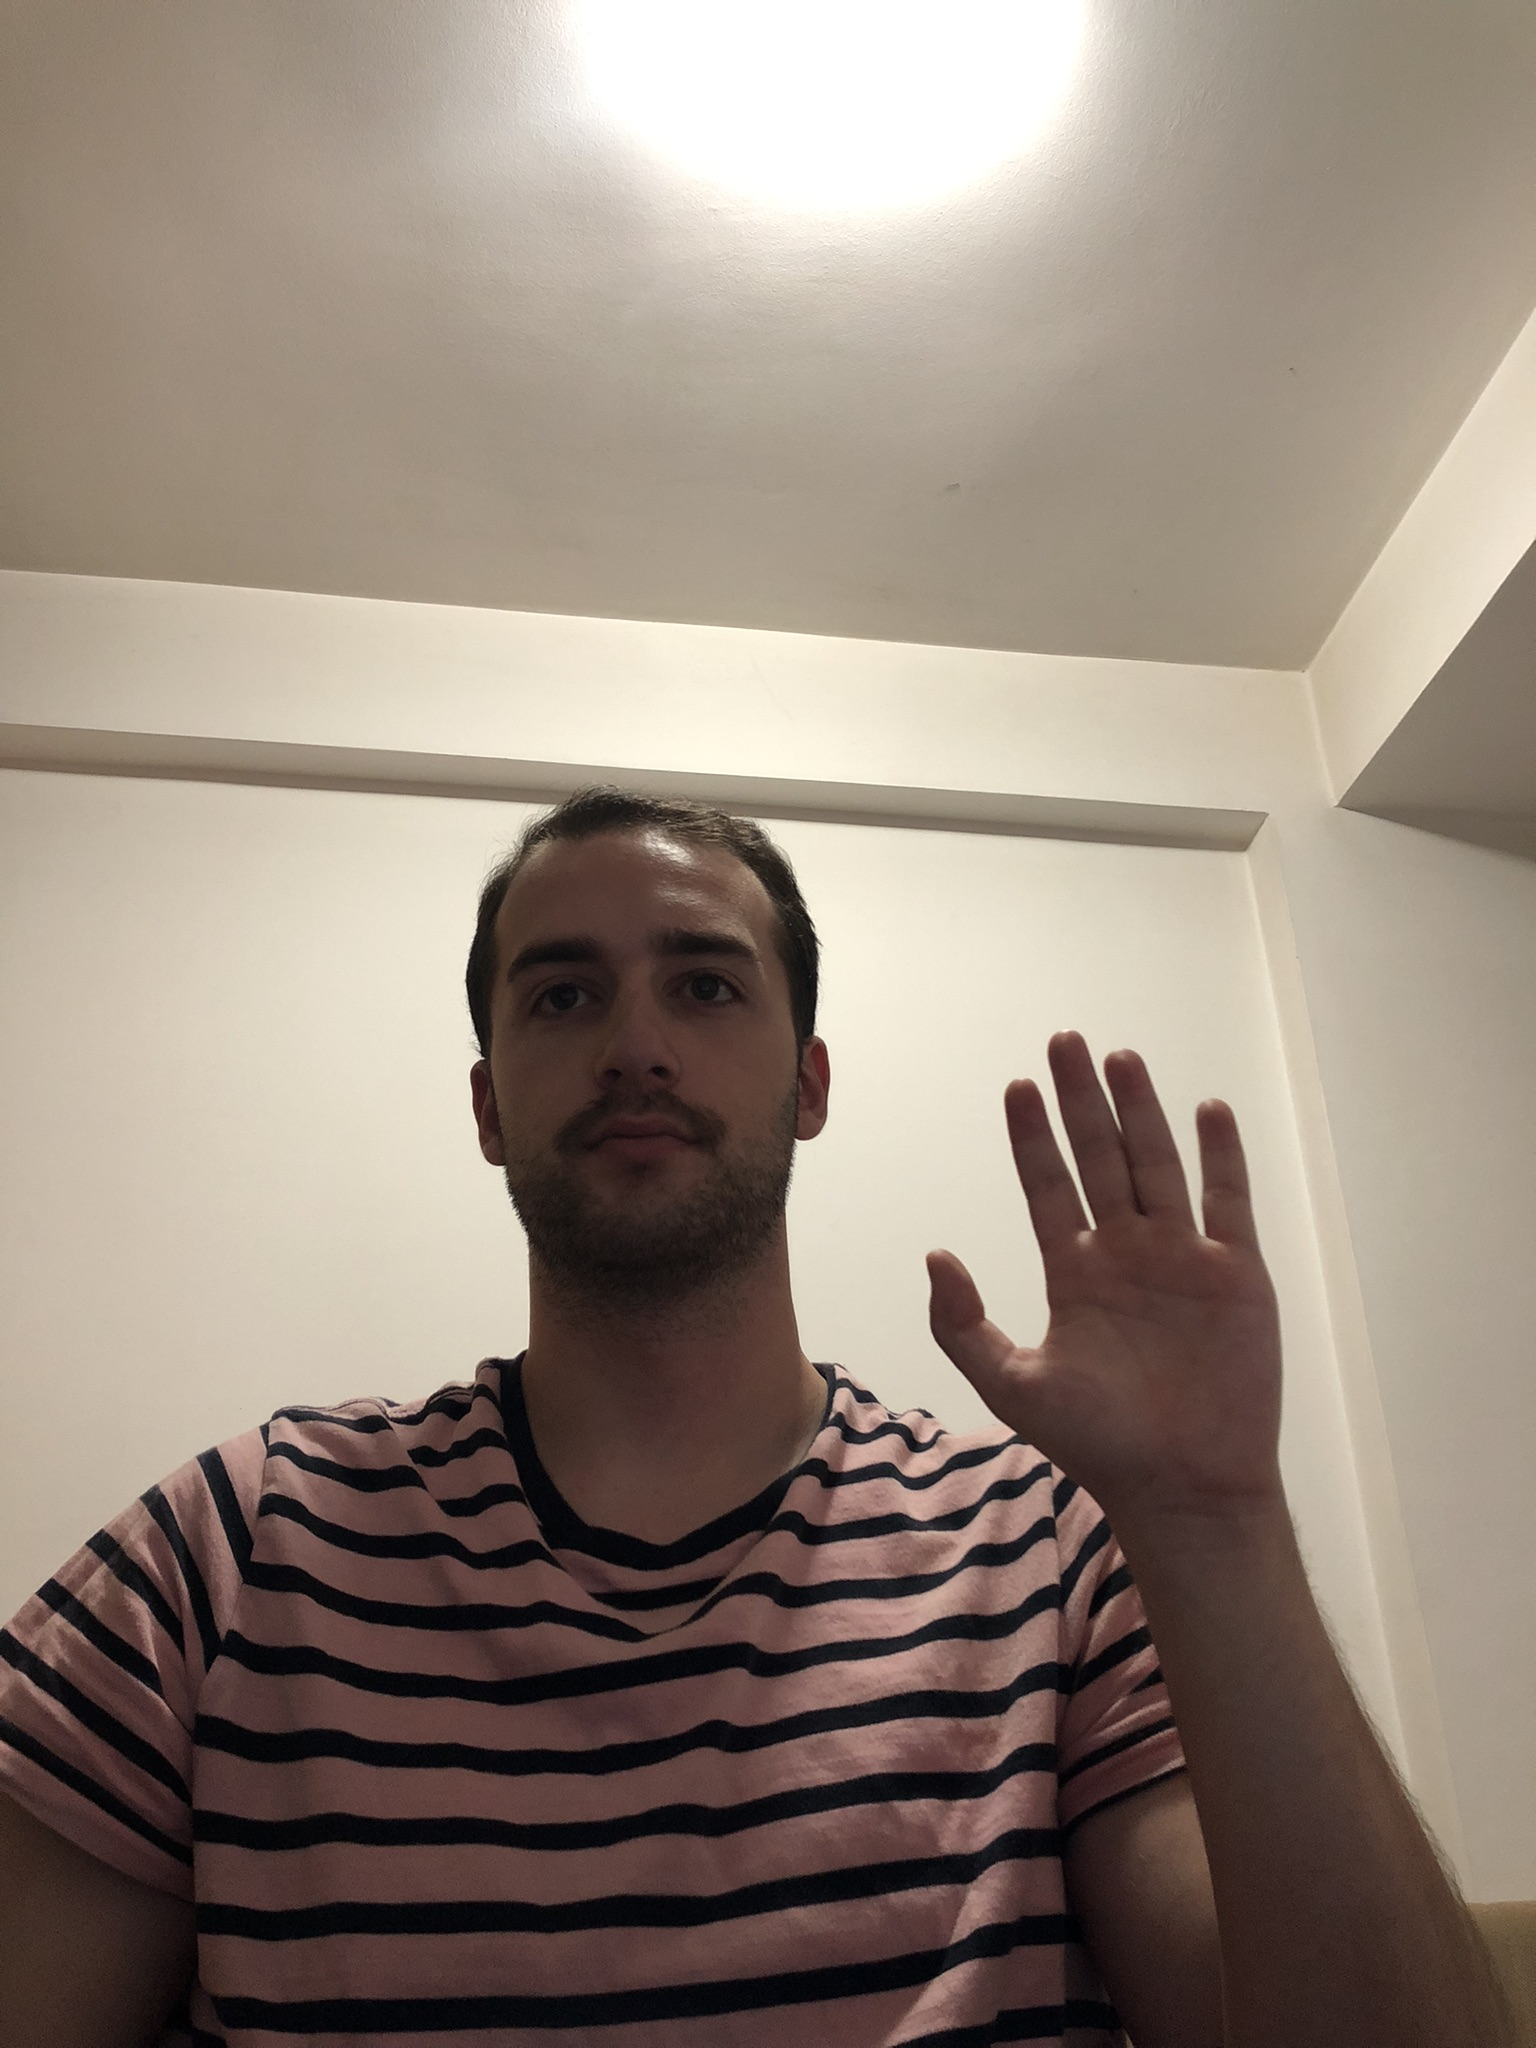Hello: (913, 1014, 1309, 1542)
